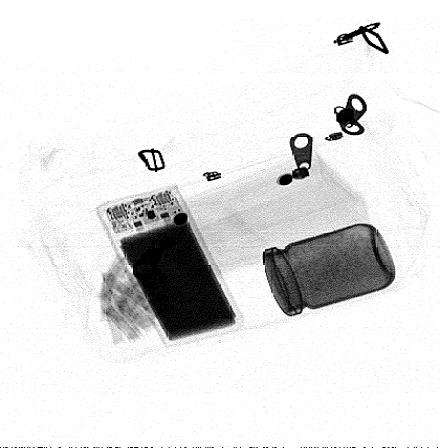Powerbank: (98, 185, 245, 349)
